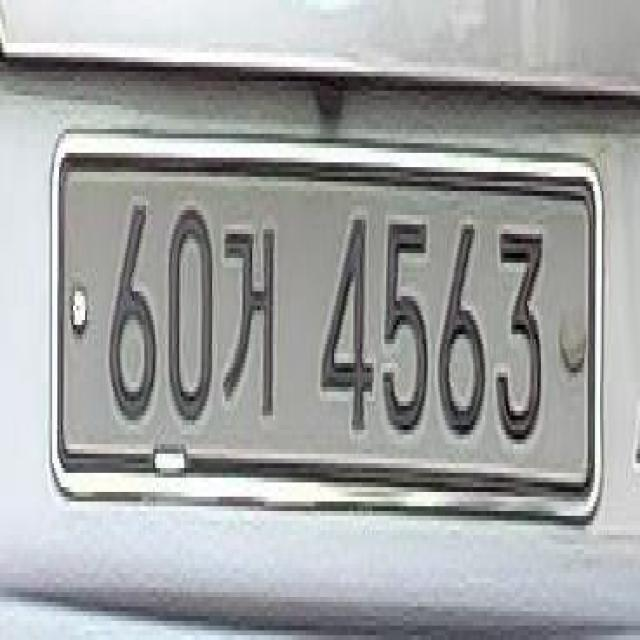0: (163, 198, 216, 434)
3: (489, 195, 546, 460)
4: (314, 200, 376, 448)
5: (379, 196, 432, 444)
6: (104, 194, 160, 430), (437, 202, 487, 449)
geo: (222, 206, 280, 434)
license_plate: (46, 114, 610, 546)
